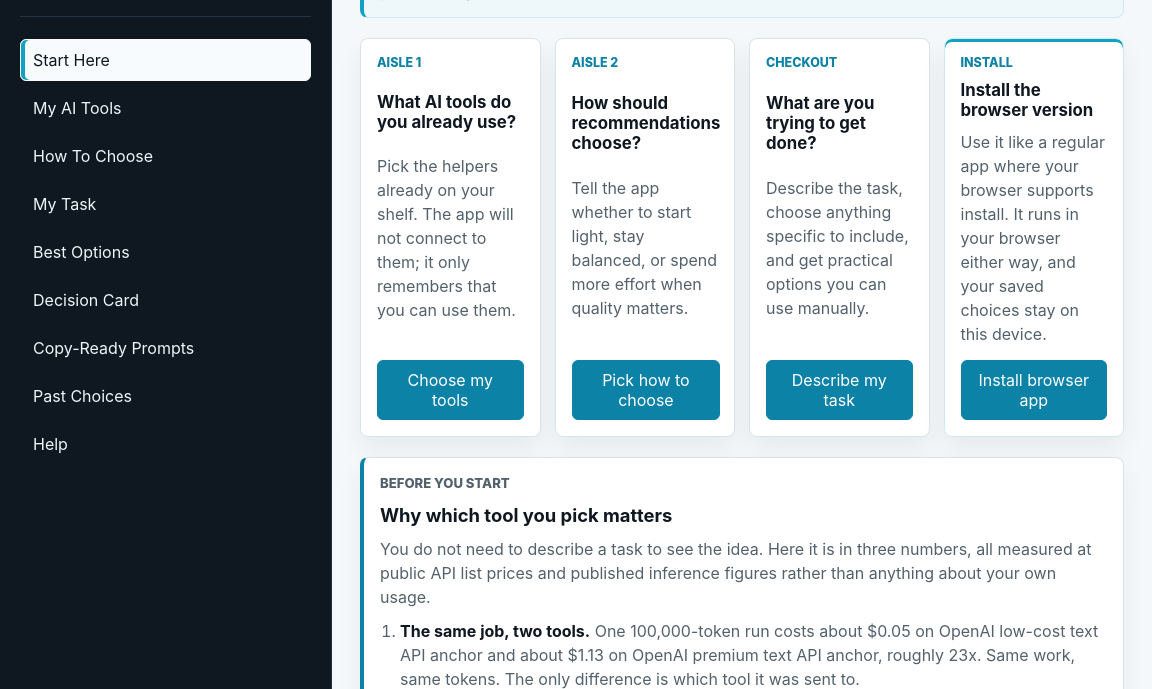
Test: App › offers browser install when the browser exposes the install prompt
The image size is (1152, 689).
(page scrolled)
Check: the text "It runs in your browser either way" is shown, box x1=960 y1=132 x2=1105 y2=344
Click the button "Install browser app". click: (1034, 390)
box: x1=960 y1=360 x2=1107 y2=420
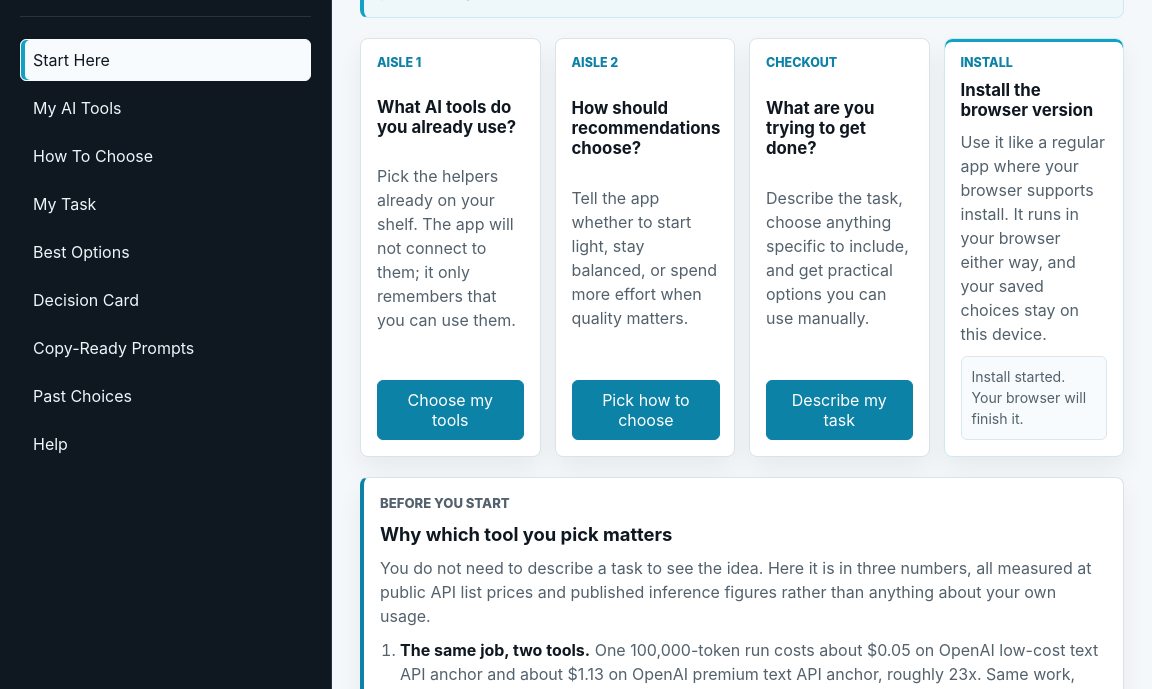
Check: the text "Install started. Your browser will finish it." is shown, box x1=960 y1=356 x2=1107 y2=440
